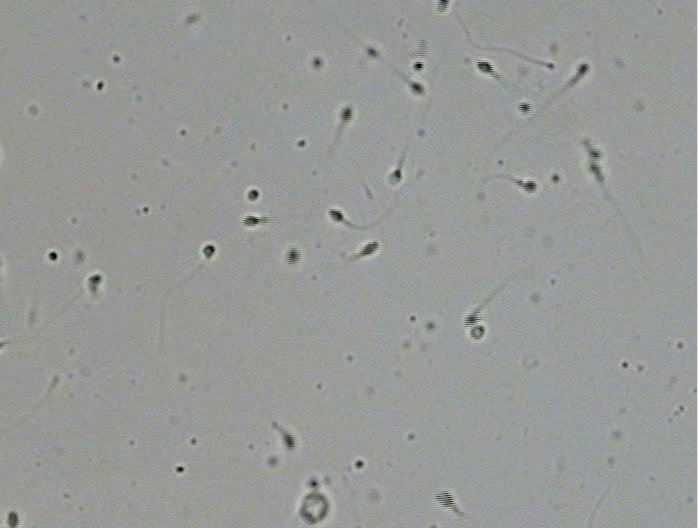Impurity: (300, 478, 329, 524)
S: (435, 490, 455, 509), (415, 39, 429, 58), (361, 241, 378, 256), (5, 510, 19, 528), (282, 432, 295, 451), (464, 312, 480, 327), (287, 247, 300, 264), (339, 106, 352, 123), (477, 60, 494, 73), (470, 325, 485, 339), (388, 169, 402, 184), (588, 162, 602, 177), (88, 275, 101, 291), (328, 209, 344, 222), (586, 146, 601, 159), (523, 180, 537, 193), (410, 82, 424, 95), (518, 101, 532, 114), (576, 63, 589, 77), (242, 216, 260, 226), (203, 245, 215, 258), (365, 46, 378, 58), (436, 1, 449, 13), (247, 190, 259, 200), (414, 61, 424, 71), (312, 58, 322, 68)
